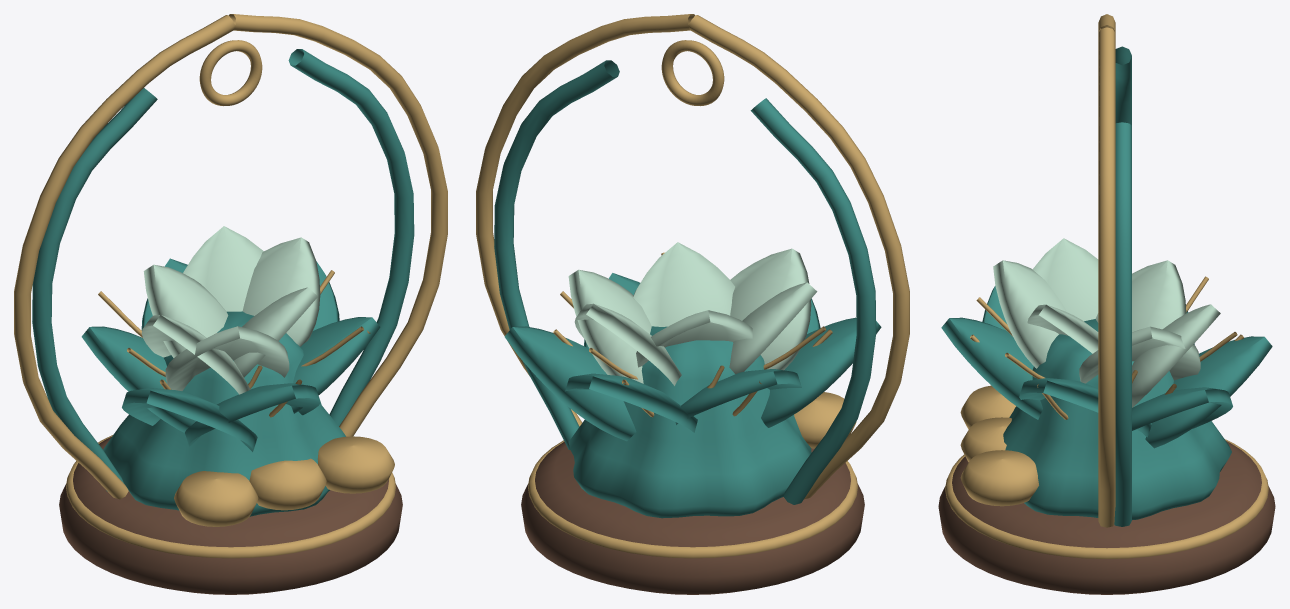
Rendered from lotus_lamp.glb.
3 views of the same model, side by side, from view 1: azimuth 30°, elevation 25°; view 2: azimuth 150°, elevation 25°; view 3: azimuth 270°, elevation 25° (orthographic). The views are drawn at different scales.
Visible parts, largest first — view 1: Lotus_Glazed teal porcelain, Lotus_Brushed champagne brass, Lotus_Walnut carved edge, Lotus_Celadon milk glaze; view 2: Lotus_Glazed teal porcelain, Lotus_Brushed champagne brass, Lotus_Walnut carved edge, Lotus_Celadon milk glaze; view 3: Lotus_Glazed teal porcelain, Lotus_Walnut carved edge, Lotus_Brushed champagne brass, Lotus_Celadon milk glaze.
Boxes of the visible parts, box(x1,y1,x2,y2) form: Lotus_Glazed teal porcelain: box(32, 49, 414, 516); Lotus_Brushed champagne brass: box(14, 14, 447, 558); Lotus_Walnut carved edge: box(59, 437, 402, 594); Lotus_Celadon milk glaze: box(141, 226, 320, 394); Lotus_Glazed teal porcelain: box(494, 60, 881, 518); Lotus_Brushed champagne brass: box(476, 14, 909, 558); Lotus_Walnut carved edge: box(521, 442, 864, 594); Lotus_Celadon milk glaze: box(568, 242, 817, 385); Lotus_Glazed teal porcelain: box(941, 46, 1272, 526); Lotus_Walnut carved edge: box(938, 441, 1275, 594); Lotus_Brushed champagne brass: box(945, 14, 1268, 558); Lotus_Celadon milk glaze: box(993, 238, 1220, 407).
Bounding box in the file's own units: 1.77 × 2.04 × 1.22.
